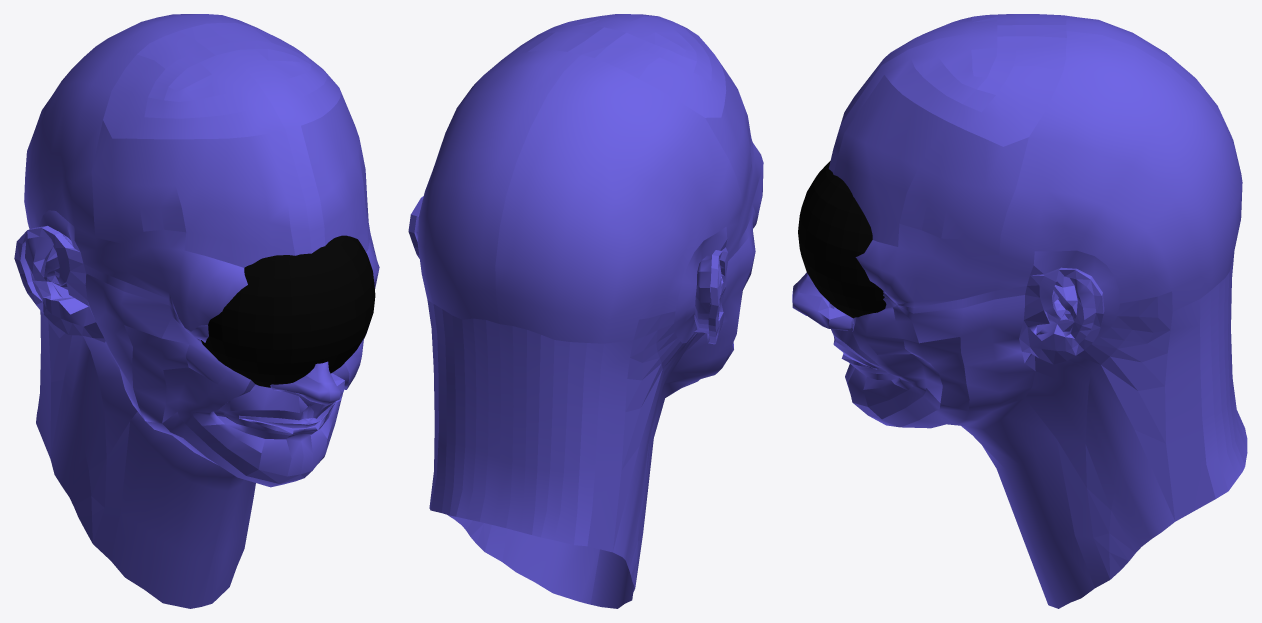
The picture shows the model from 3 angles, left to right: view 1: azimuth 30°, elevation 25°; view 2: azimuth 150°, elevation 25°; view 3: azimuth 270°, elevation 25°; orthographic projection. The views are drawn at different scales.
Parts seen in each view (by area): view 1: face_face, Sphere; view 2: face_face; view 3: face_face, Sphere.
Boxes of the visible parts, left/top/right/bottom form: face_face: left=14, top=14, right=379, bottom=608; Sphere: left=201, top=235, right=375, bottom=387; face_face: left=408, top=14, right=763, bottom=608; face_face: left=792, top=14, right=1247, bottom=608; Sphere: left=798, top=161, right=886, bottom=318.
Size of the model in its own units: 1.34 by 1.66 by 2.29.
